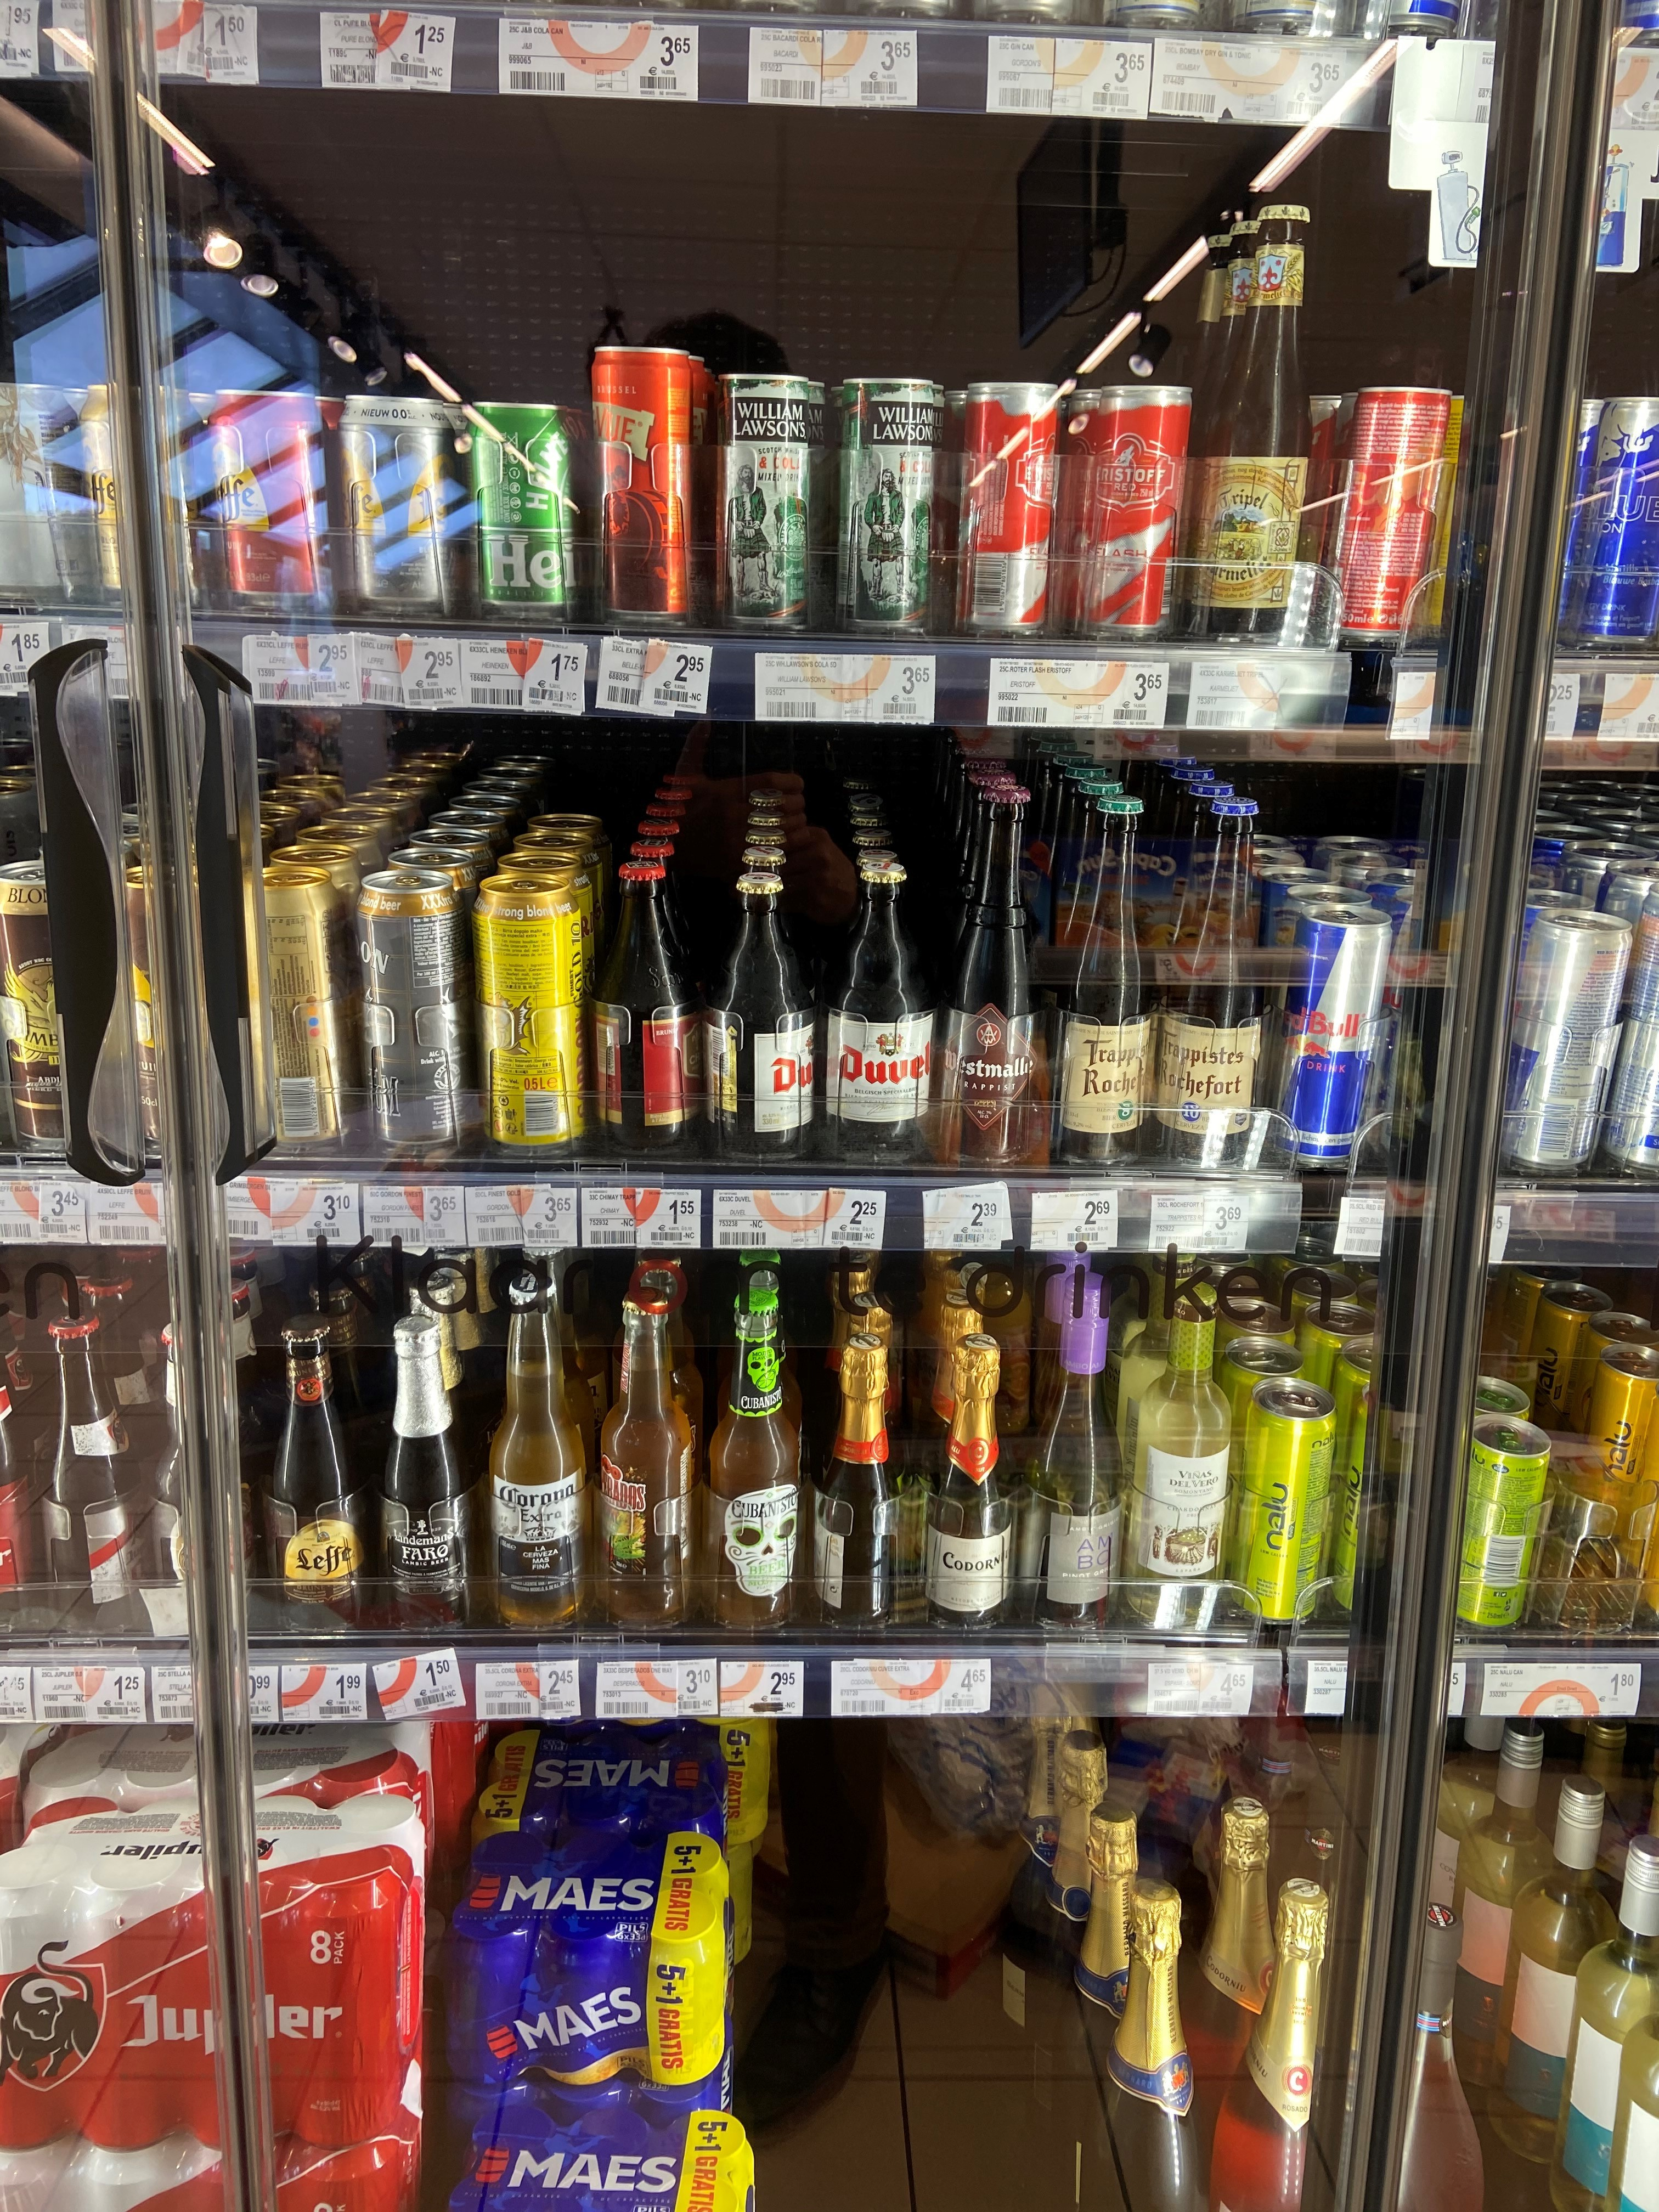Ambo: (1025, 1270, 1131, 1634)
BelleVue: (587, 343, 697, 625)
BernardMassard: (1063, 1878, 1208, 2212)
Chimay: (586, 859, 699, 1150)
CodorniuBrut: (922, 1331, 1016, 1629), (812, 1332, 906, 1629)
CodorniuRosado: (1208, 1871, 1359, 2212)
CondadoReal: (1493, 1780, 1622, 2163)
Corona: (481, 1270, 592, 1639)
CubanistoMojito: (706, 1289, 805, 1630)
DesperadosFles: (599, 1285, 697, 1632)
Duvel: (817, 862, 938, 1162), (704, 871, 821, 1158)
EristoffRed: (1086, 383, 1195, 641), (960, 383, 1061, 632)
Faro: (373, 1313, 471, 1639)
GordonGold50cl: (476, 874, 586, 1160)
GordonPlatinum: (352, 869, 471, 1148)
Grimbergen: (0, 857, 105, 1160)
Heineken33cl: (460, 401, 582, 625)
HoegaerdenOriginal: (0, 378, 84, 610)
Jupiler0,0%Fles: (30, 1305, 134, 1630)
JupilerBlik8x50cl: (0, 1792, 430, 2156)
Leffe0,0%Blond: (333, 395, 460, 631)
LeffeBlond33cl: (73, 381, 209, 610)
LeffeBlond50cl: (232, 862, 361, 1160)
LeffeBruinBlik: (110, 857, 228, 1162)
LeffeBruinFles: (260, 1313, 368, 1639)
LeffeRuby33cl: (200, 390, 333, 617)
Maes6x33cl: (446, 1829, 734, 2092), (441, 2107, 756, 2212)
Martini: (1370, 1893, 1492, 2212)
NaluOriginal250ml: (1455, 1418, 1554, 1630)
NaluOriginal350ml: (1236, 1379, 1340, 1625)
RedBullBlue: (1560, 397, 1659, 655)
RedBullOriginalBlik355ml: (1492, 909, 1636, 1170), (1276, 904, 1396, 1170)
RedBullRed: (1324, 387, 1457, 641)
Rochefort: (1150, 789, 1263, 1170), (1056, 792, 1164, 1165)
StellaFles: (148, 1318, 258, 1658)
TripelKarmeliet: (1183, 204, 1326, 641)
VinasDelVero: (1122, 1278, 1239, 1634)
Westmalle: (936, 779, 1054, 1167)
WilliamLawson: (838, 378, 936, 636), (714, 374, 814, 627)
